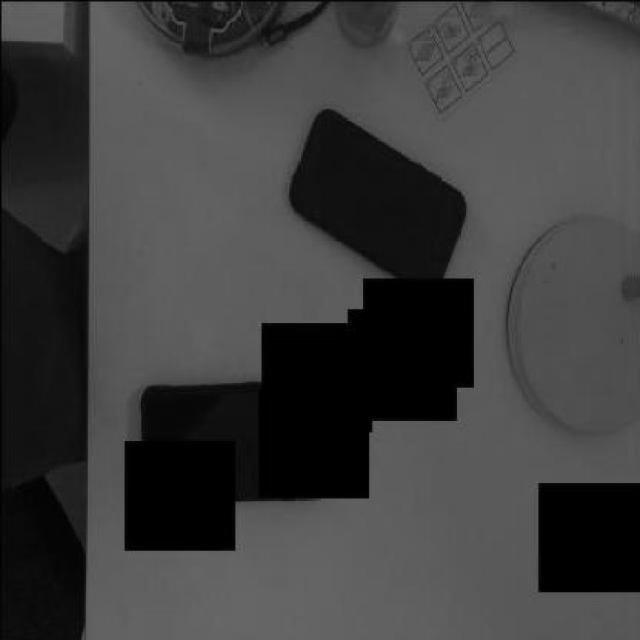fake: (290, 104, 468, 296), (138, 377, 326, 511)
